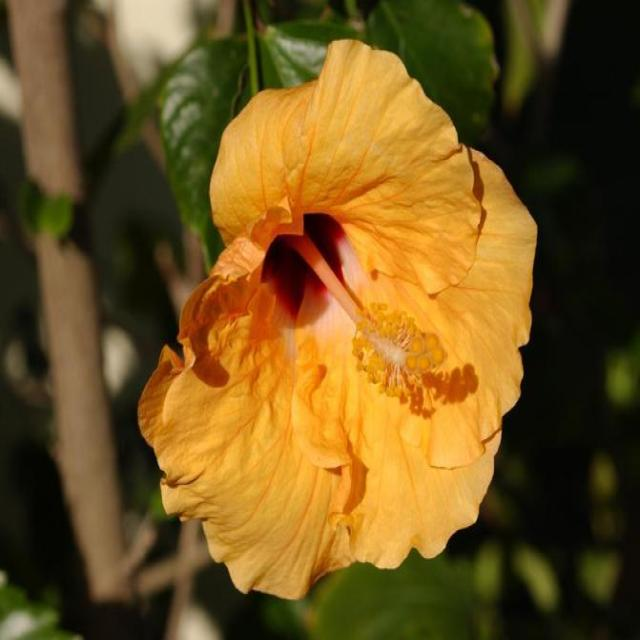hibiscus: (105, 17, 565, 636)
